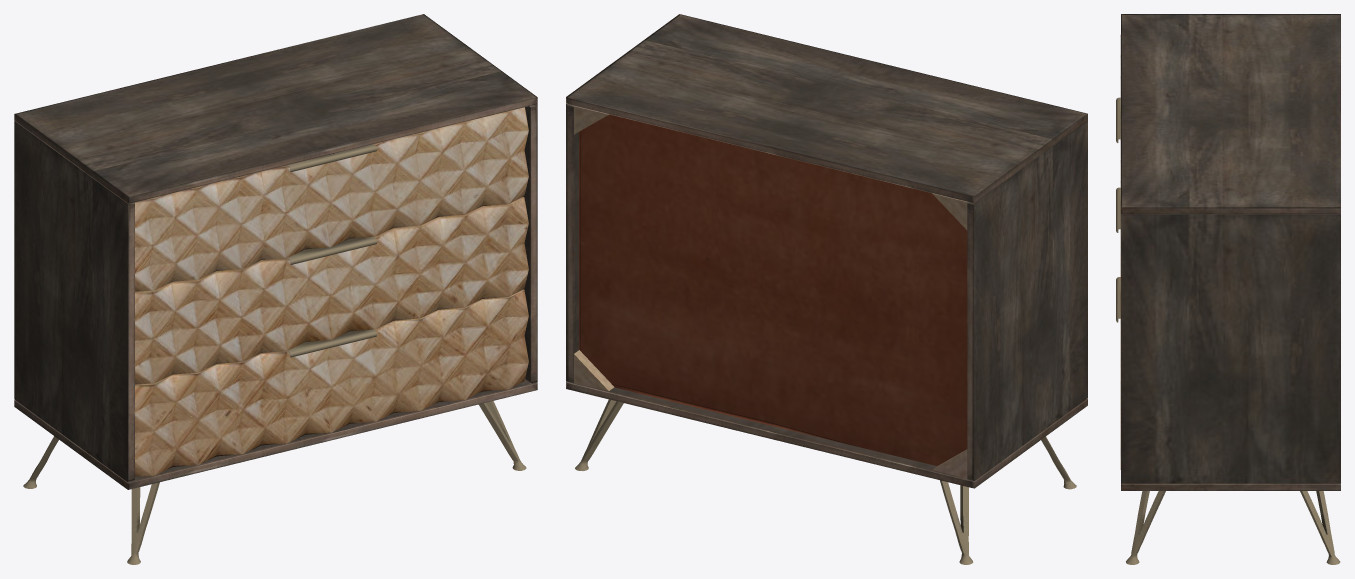
File: B07HSH4WFB.glb
3 renders of one model, left to right at view 1: azimuth 30°, elevation 25°; view 2: azimuth 150°, elevation 25°; view 3: azimuth 270°, elevation 25°, orthographic. The views are drawn at different scales.
Parts seen in each view (by area): view 1: RootNode; view 2: RootNode; view 3: RootNode.
Boxes of the visible parts, x1,y1,x2,y2 form: RootNode: (14,14,537,564); RootNode: (566,14,1087,564); RootNode: (1116,14,1340,564).
Size of the model in its own units: 0.9228 by 0.8012 by 0.453.
Materials: 1 (1 with a texture image).
